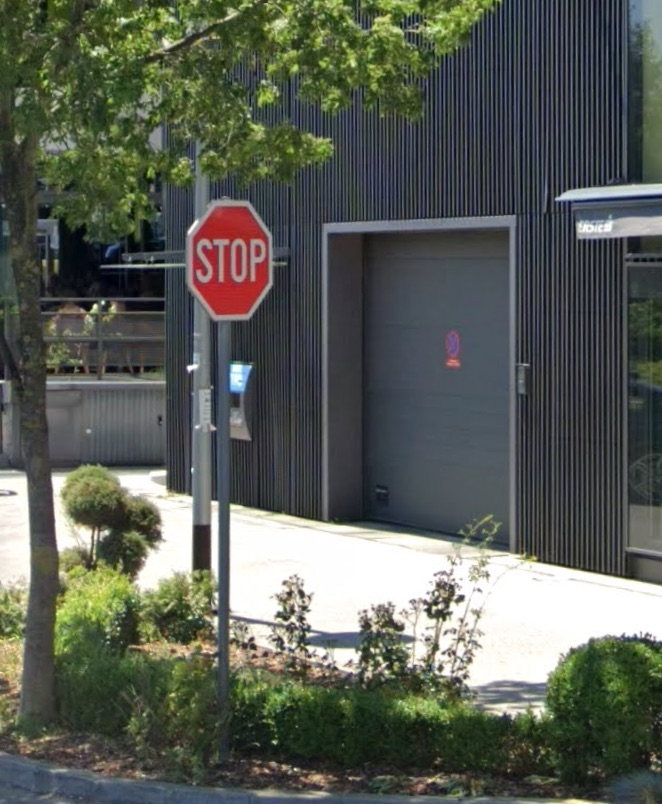Obavezno zaustavljanje: (187, 201, 273, 319)
